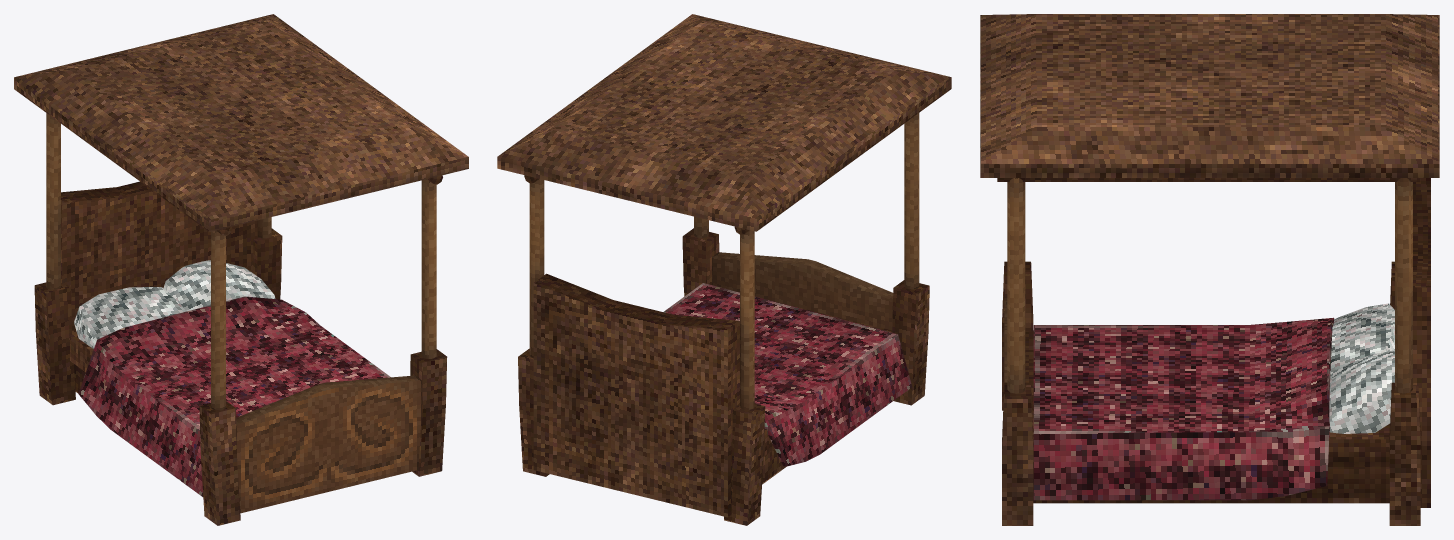
Rendered from Bed_Double_1.gltf.
The picture shows the model from 3 angles, left to right: view 1: azimuth 30°, elevation 25°; view 2: azimuth 150°, elevation 25°; view 3: azimuth 270°, elevation 25°; orthographic projection. The views are drawn at different scales.
Visible parts, largest first — view 1: Bed_Double_1; view 2: Bed_Double_1; view 3: Bed_Double_1.
Part boxes in pixels (x1,y1,x2,y2): Bed_Double_1: [14, 14, 468, 525]; Bed_Double_1: [497, 14, 951, 525]; Bed_Double_1: [980, 14, 1439, 525].
Size of the model in its own units: 4.95 by 6.07 by 6.46.
1 material, 1 textured.
